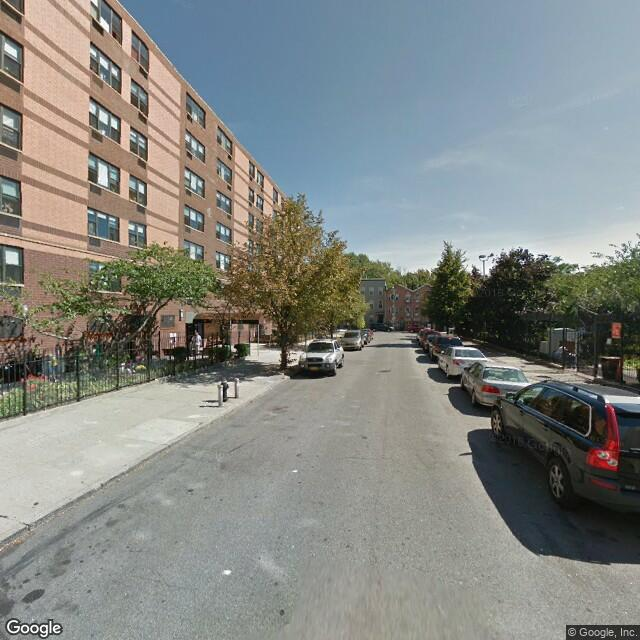litter: (222, 568, 232, 576), (290, 469, 299, 475)
